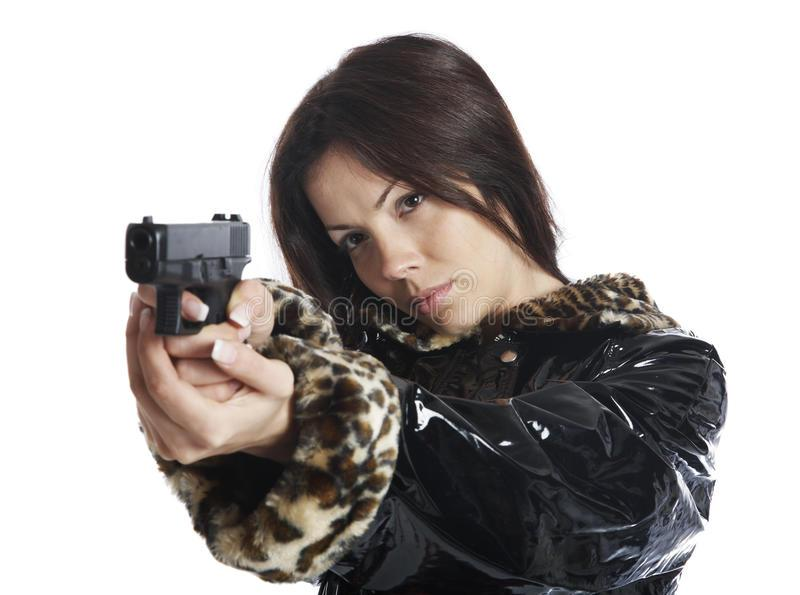criminal: (123, 32, 728, 595)
weapon: (123, 208, 257, 340)
